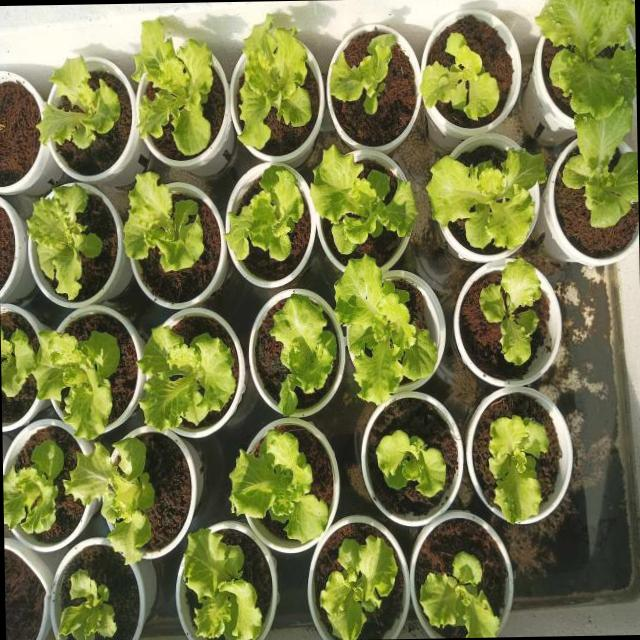Lettuce-Not-Ready-to-Harvest: (334, 254, 438, 405), (426, 148, 547, 250), (310, 145, 417, 254), (63, 437, 154, 564), (131, 19, 213, 156), (537, 0, 636, 113), (229, 431, 328, 543), (137, 326, 235, 430), (238, 19, 311, 149), (33, 330, 120, 439), (181, 528, 262, 640), (25, 184, 103, 300), (562, 116, 638, 228), (123, 171, 205, 272), (320, 535, 397, 640), (273, 293, 338, 417), (36, 56, 119, 149), (225, 166, 303, 262), (420, 33, 501, 121), (419, 551, 500, 638), (487, 415, 549, 524), (480, 258, 542, 365), (3, 440, 63, 534), (329, 34, 396, 115), (375, 430, 446, 497), (58, 568, 116, 640), (0, 328, 37, 397)
